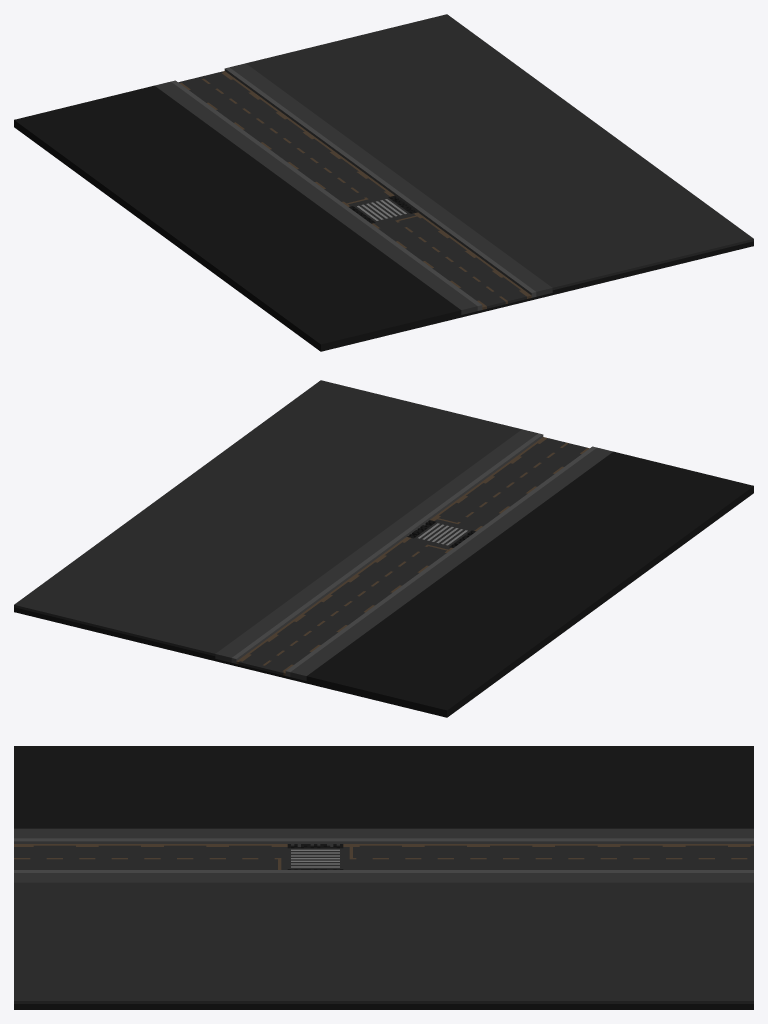
Rendered from NightCity-0-StaticCity.obj.
The picture shows the model from 3 angles, top to bottom: view 1: azimuth 30°, elevation 25°; view 2: azimuth 150°, elevation 25°; view 3: azimuth 270°, elevation 25°; orthographic projection. The views are drawn at different scales.
Parts seen in each view (by area): view 1: StaticCity; view 2: StaticCity; view 3: StaticCity.
Boxes of the visible parts, bbox=[...] form: StaticCity: bbox=[14, 14, 753, 351]; StaticCity: bbox=[14, 380, 753, 717]; StaticCity: bbox=[14, 746, 753, 1009].
Size of the model in its own units: 18.5 by 0.3 by 22.7.
Materials: 1 (1 with a texture image).
